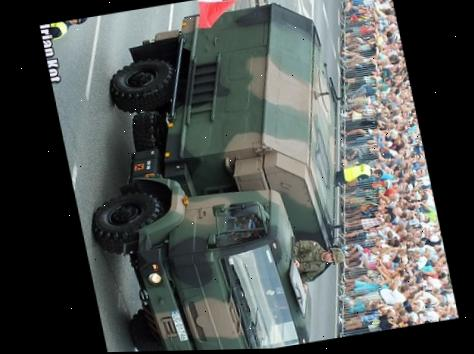truck: (50, 0, 392, 353)
